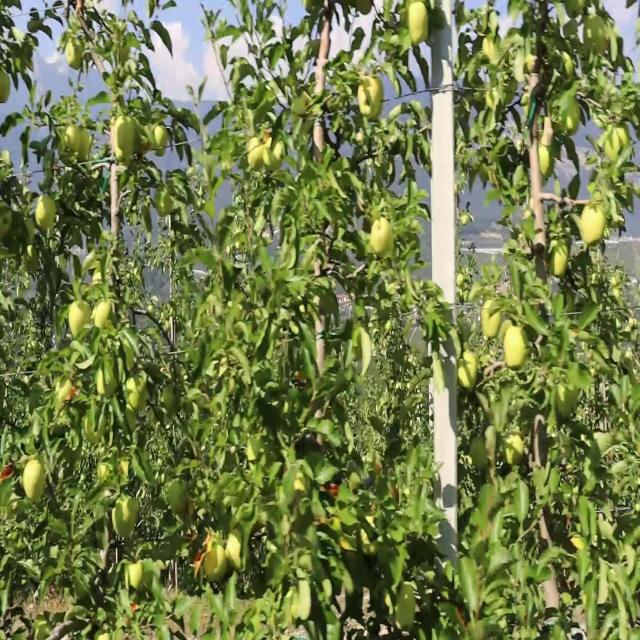apple: (112, 113, 138, 162), (112, 497, 140, 539), (580, 206, 606, 249), (360, 78, 384, 124), (204, 540, 228, 583), (68, 298, 92, 341), (504, 327, 528, 370), (24, 462, 48, 503), (604, 127, 630, 164), (372, 220, 395, 260), (408, 7, 430, 48), (536, 142, 558, 180), (556, 383, 578, 420), (84, 412, 107, 446), (484, 298, 502, 341), (36, 199, 57, 235), (460, 355, 479, 393), (504, 433, 524, 469), (128, 376, 148, 412), (472, 433, 492, 469), (228, 533, 246, 572), (156, 184, 175, 220), (96, 369, 118, 400), (264, 142, 286, 172), (96, 298, 115, 331), (64, 127, 80, 162), (484, 426, 498, 466), (564, 106, 582, 137), (432, 7, 451, 34), (552, 248, 568, 279), (128, 561, 144, 590), (68, 42, 84, 71), (160, 391, 178, 416), (80, 127, 92, 164), (0, 206, 13, 240), (248, 142, 263, 171), (484, 35, 499, 64), (0, 71, 12, 107), (472, 440, 486, 469), (156, 127, 169, 156), (265, 135, 275, 169), (28, 248, 40, 274), (100, 462, 112, 484), (196, 554, 204, 574), (72, 7, 84, 20), (356, 7, 372, 16), (120, 462, 129, 478)
